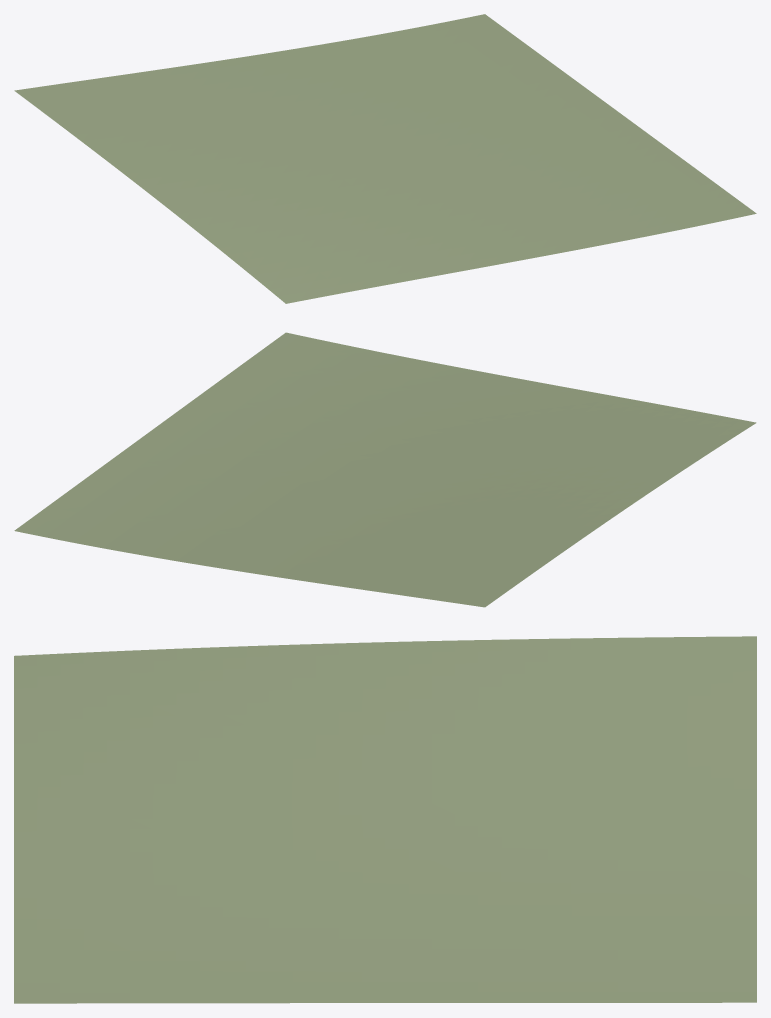
The model's file is valley-12-6.glb.
The picture shows the model from 3 angles, top to bottom: view 1: azimuth 30°, elevation 25°; view 2: azimuth 150°, elevation 25°; view 3: azimuth 270°, elevation 25°; orthographic projection. The views are drawn at different scales.
Visible parts, largest first — view 1: valley-12-6; view 2: valley-12-6; view 3: valley-12-6.
Part boxes in pixels (x1,y1,x2,y2): valley-12-6: (14, 14, 756, 303); valley-12-6: (14, 332, 756, 607); valley-12-6: (14, 636, 756, 1003).
Size of the model in its own units: 256 by 20.25 by 256.
